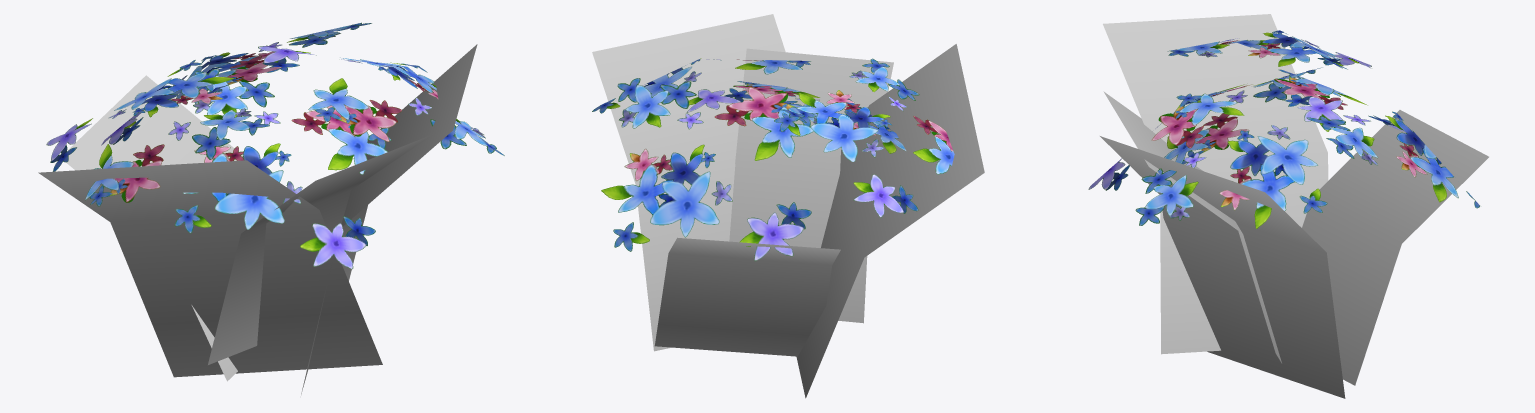
The model's file is Flower_001.fbx.
The picture shows the model from 3 angles, left to right: view 1: azimuth 30°, elevation 25°; view 2: azimuth 150°, elevation 25°; view 3: azimuth 270°, elevation 25°; orthographic projection. The views are drawn at different scales.
Parts seen in each view (by area): view 1: polySurface1; view 2: polySurface1; view 3: polySurface1.
Part boxes in pixels (<box>): polySurface1: <box>38,22,504,394</box>; polySurface1: <box>592,14,984,398</box>; polySurface1: <box>1088,14,1488,398</box>.
Bounding box in the file's own units: 660 × 452 × 642.
